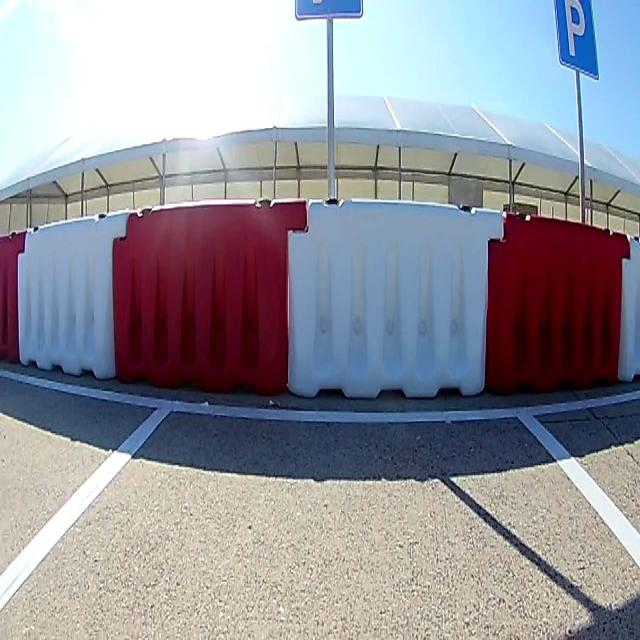park: (556, 1, 598, 77)
